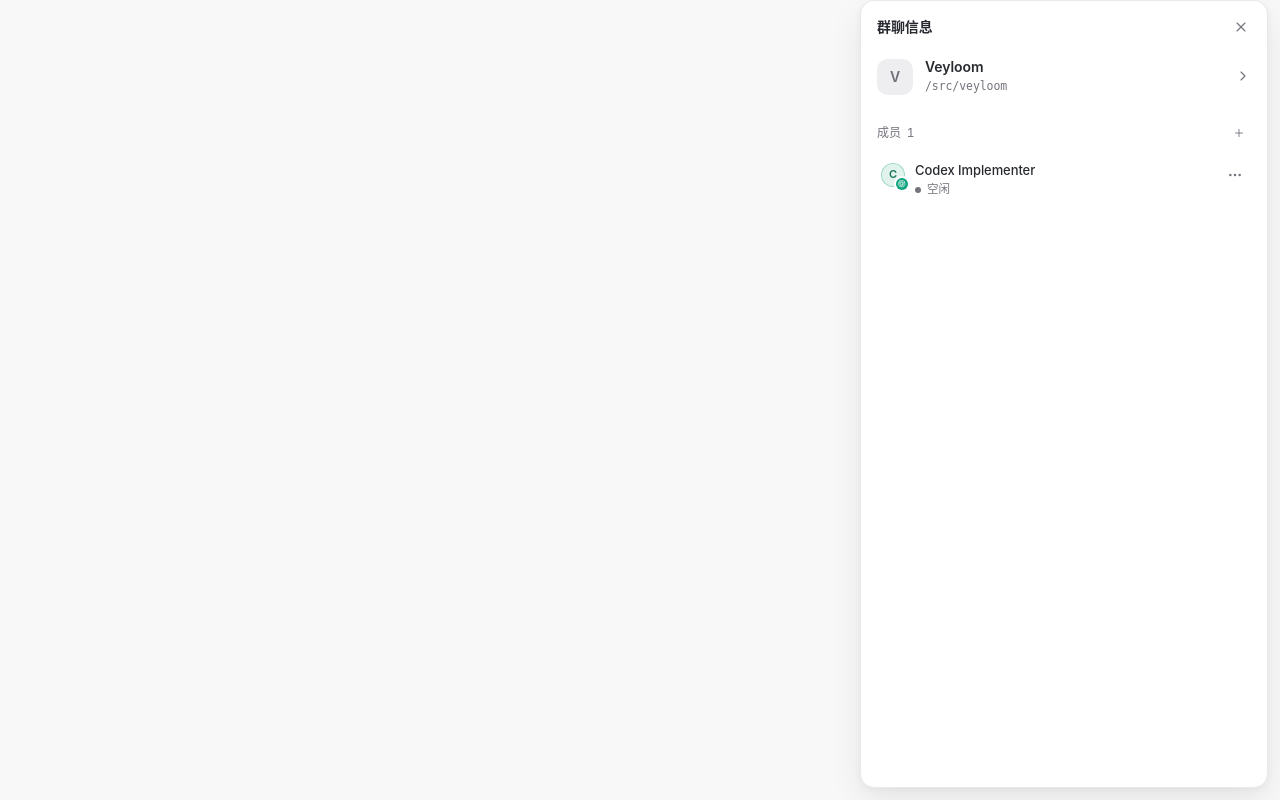
MembersPanel › says so when the hub finds it busy after all
Step 1. Click the button named "更多" → click(1235, 175), box [1219,159,1251,191]
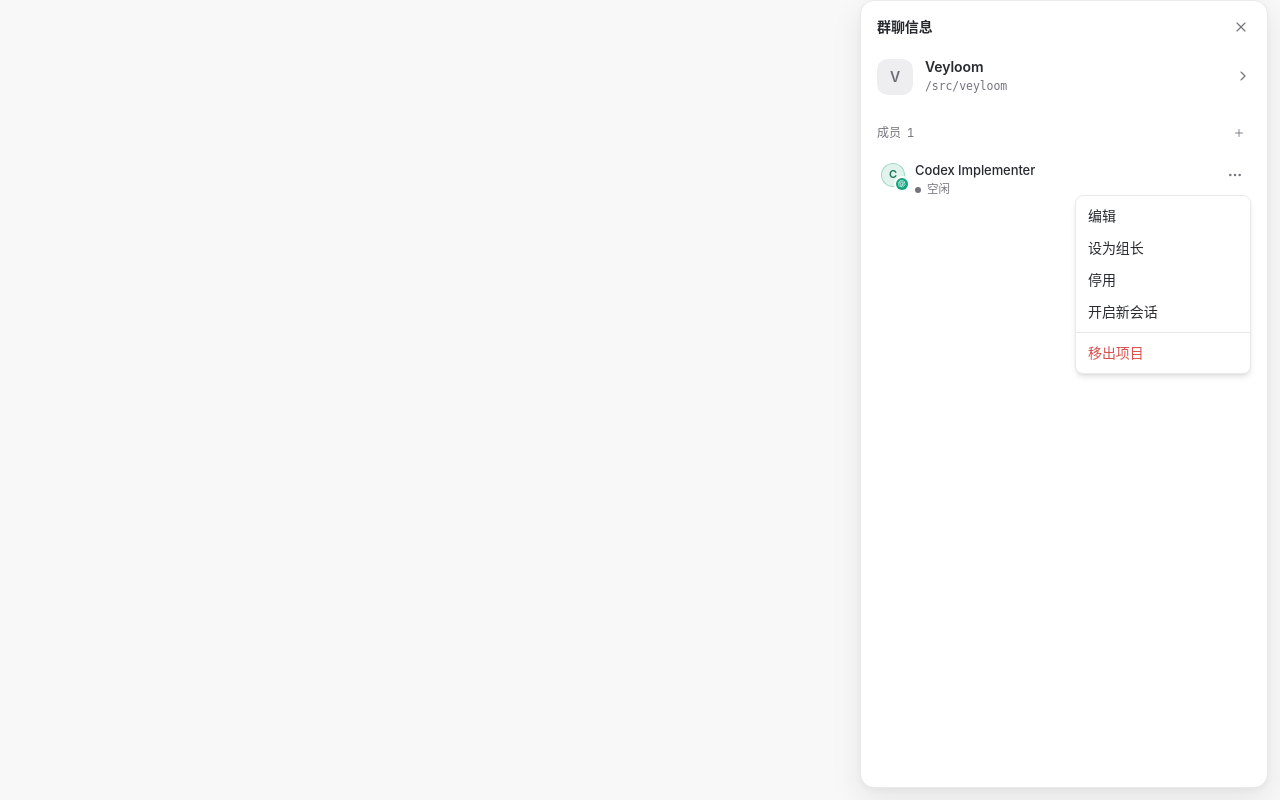
Step 2. Click the menu item "移出项目" → click(1116, 352), box [1088,344,1144,361]
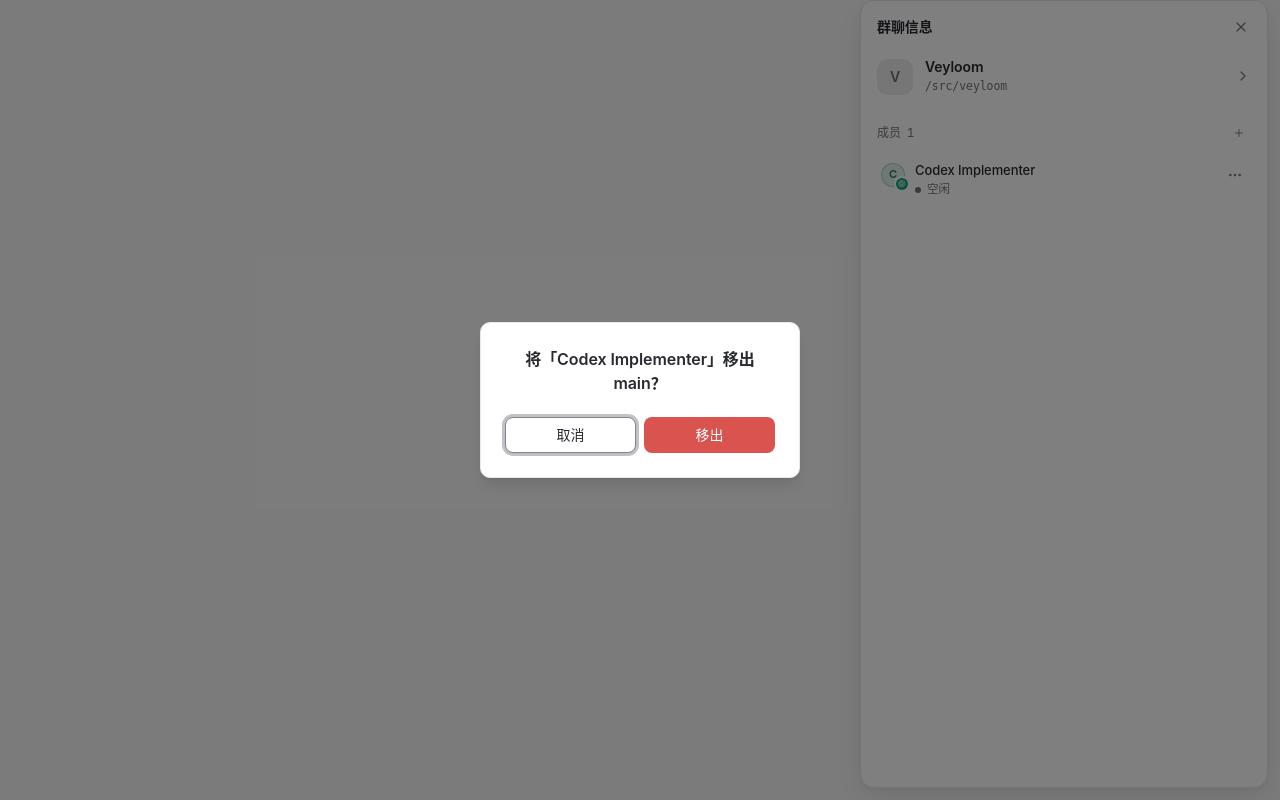
Step 3. Click the button "移出" → click(710, 435), box [644,417,775,453]
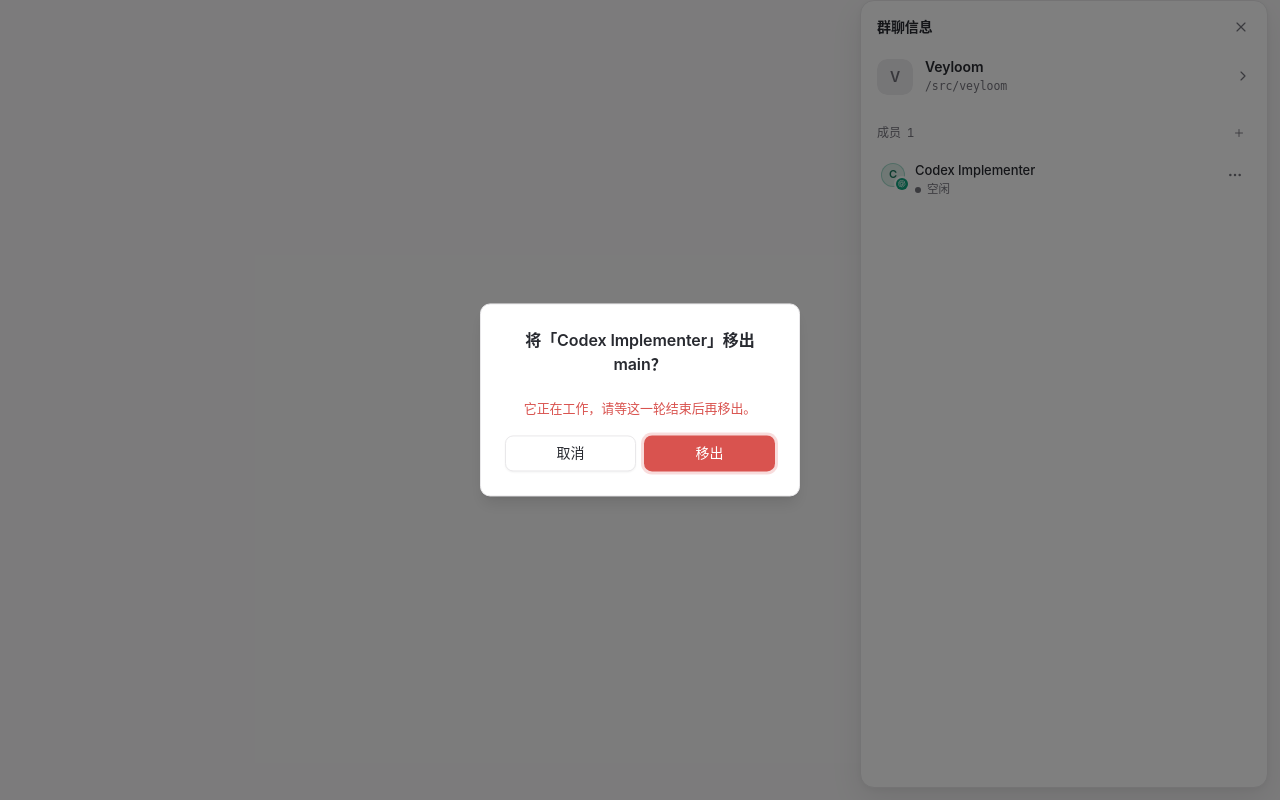
Expected: the text "Codex Implementer" is shown, [915,161,1035,179]
Result: the message reads "它正在工作，请等这一轮结束后再移出。" at [524,400,756,416]
